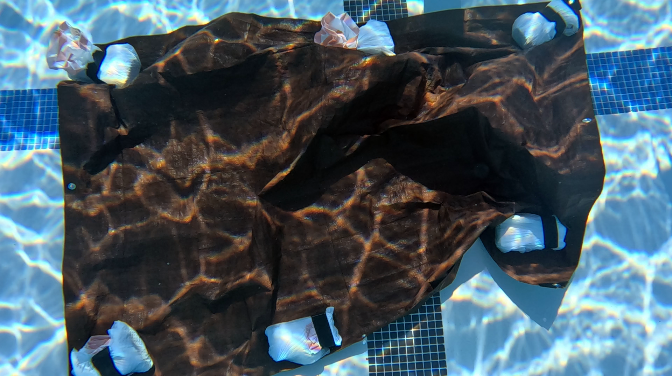sandbag: (47, 0, 604, 375)
